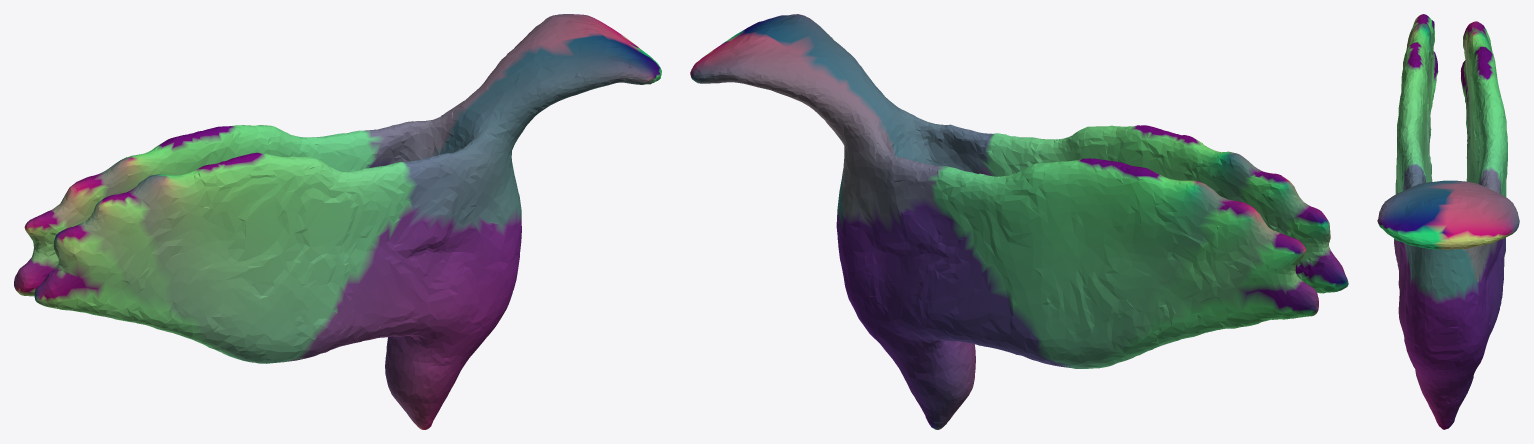
Rendered from bird1-15.off.obj.
The picture shows the model from 3 angles, left to right: view 1: azimuth 30°, elevation 25°; view 2: azimuth 150°, elevation 25°; view 3: azimuth 270°, elevation 25°; orthographic projection. The views are drawn at different scales.
Size of the model in its own units: 1.67 by 0.9051 by 0.3861.
